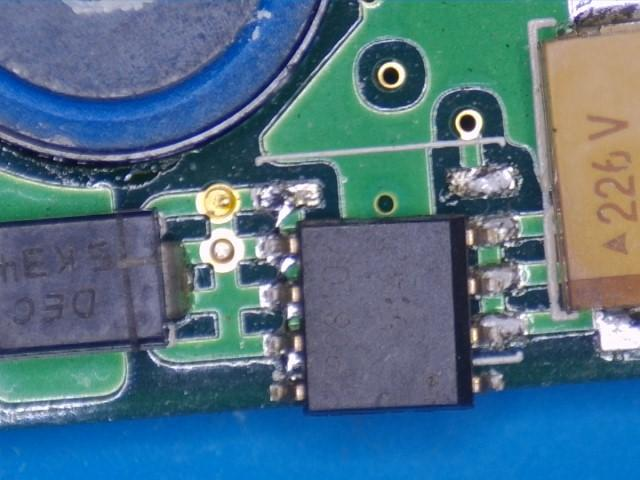Incorrect_installation: (256, 214, 529, 413)
Short_circuit: (255, 180, 324, 383)
